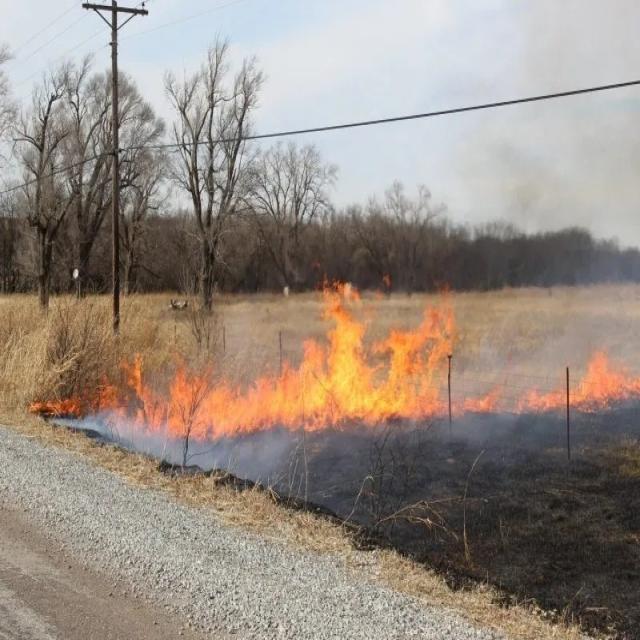Fire: (74, 270, 445, 430), (518, 331, 621, 416)
